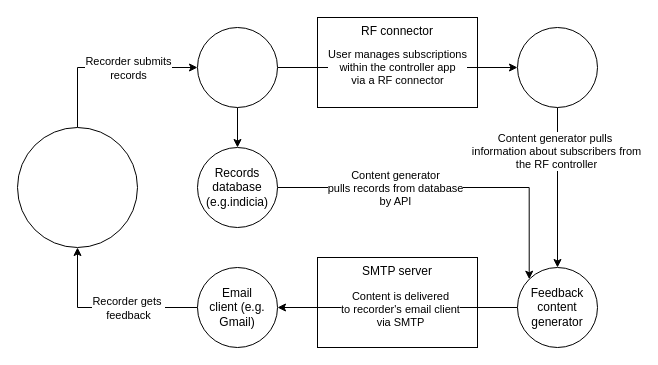
Image size: 658x365. Some labels were removed from this diagram. The centre of each missing label's shape, as x and y in pixels:
"Controller app" goes at point 557,67.
"Recorder" goes at point 77,187.
"Recording tool (e.g. iRecord)" goes at point 237,67.
